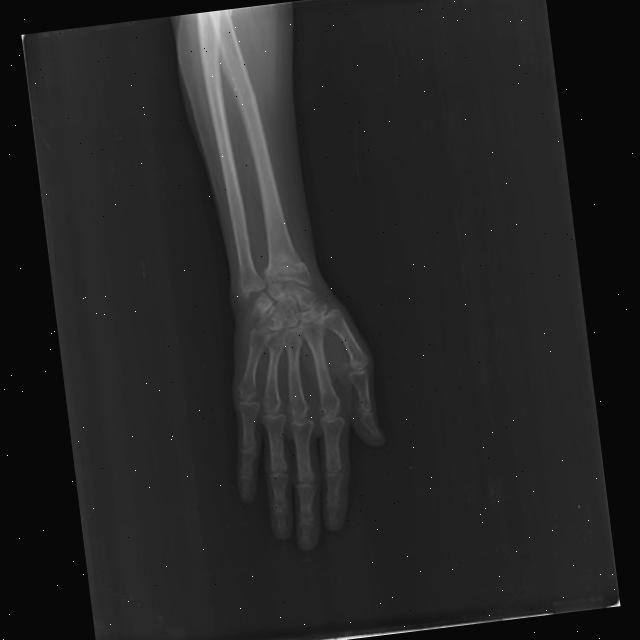Fracture: (259, 248, 312, 289)
